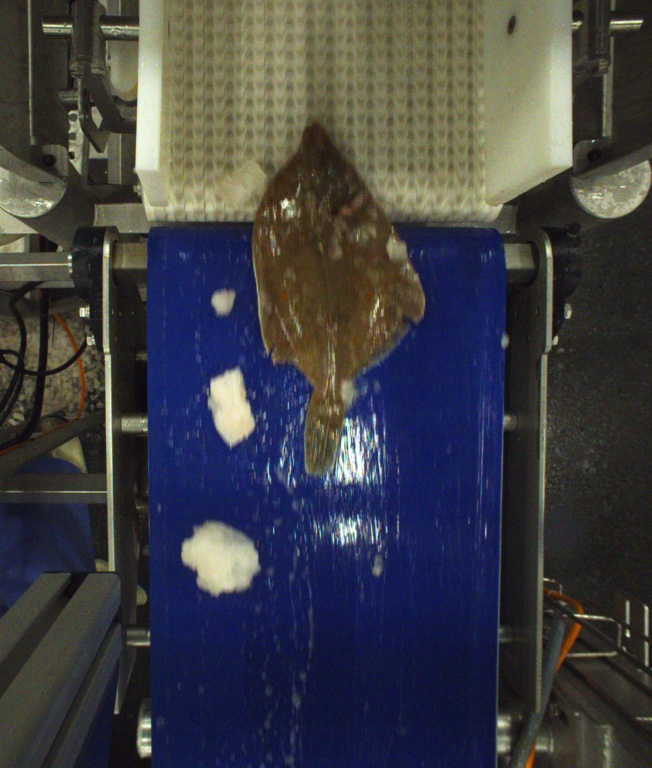PLE: (251, 119, 426, 475)
